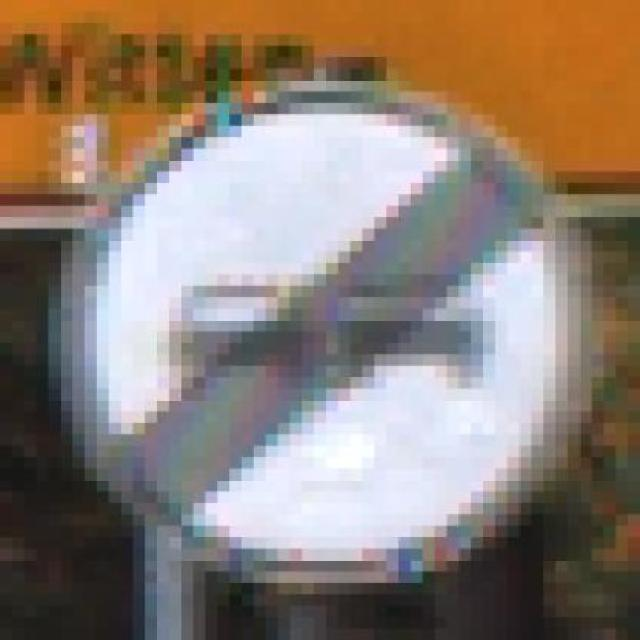No_Over_Taking: (36, 34, 604, 594)
